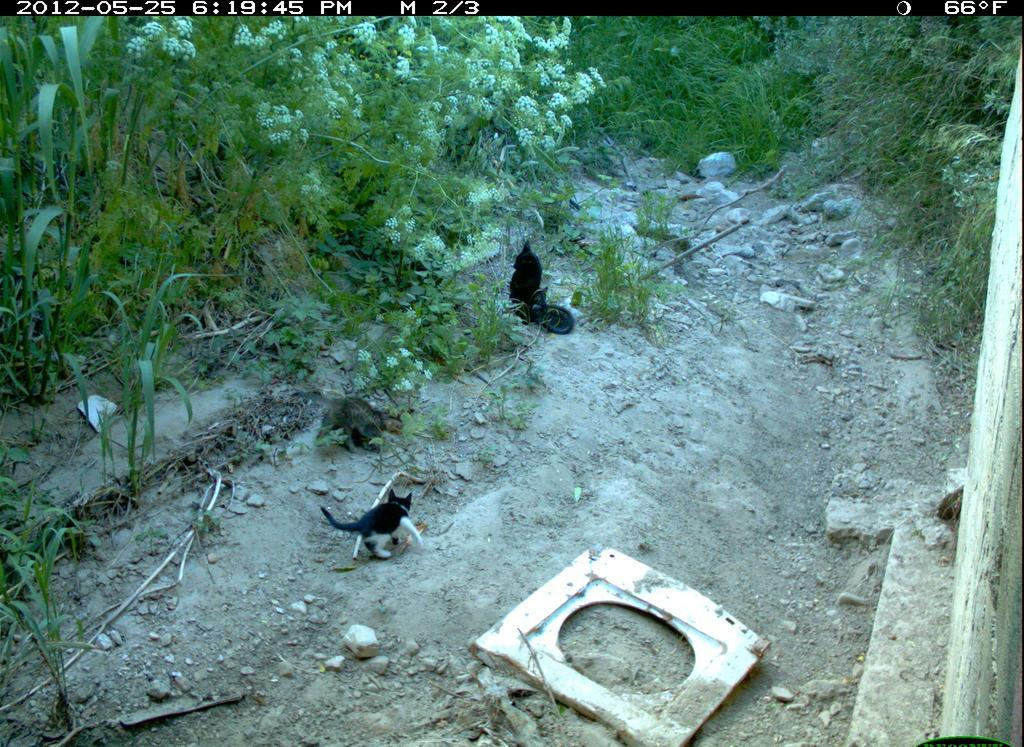cat: (321, 486, 432, 569), (299, 381, 417, 454), (506, 236, 553, 328)
